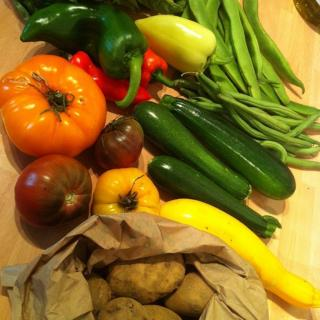Bell pepper: (1, 50, 114, 153)
